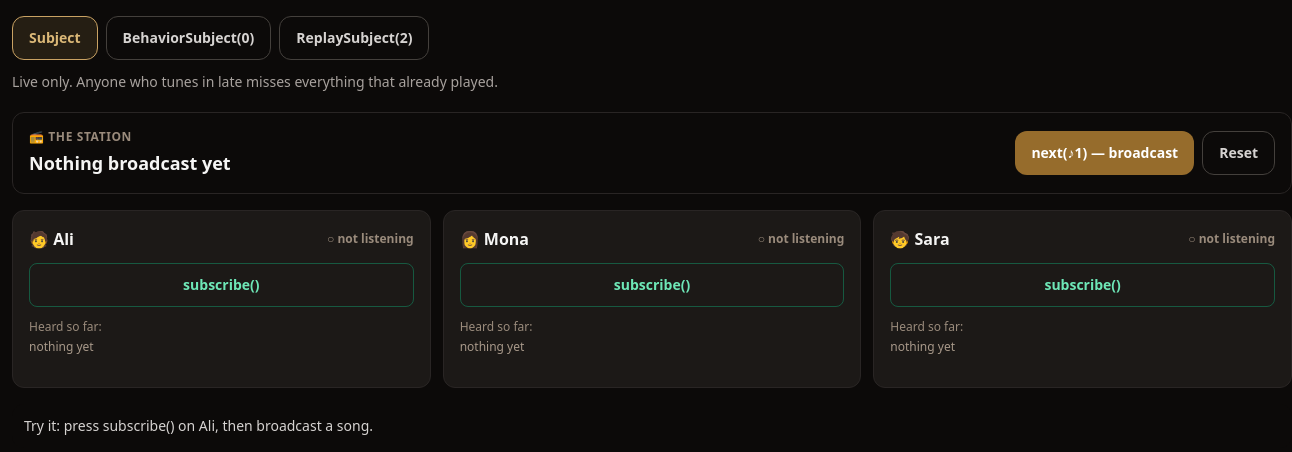
Test case: SubjectRadioDemoComponent › stops delivering after unsubscribe and clears everything on reset
The image size is (1292, 452).
Click the 1st button "subscribe()" at [221, 285], box [29, 263, 414, 307]
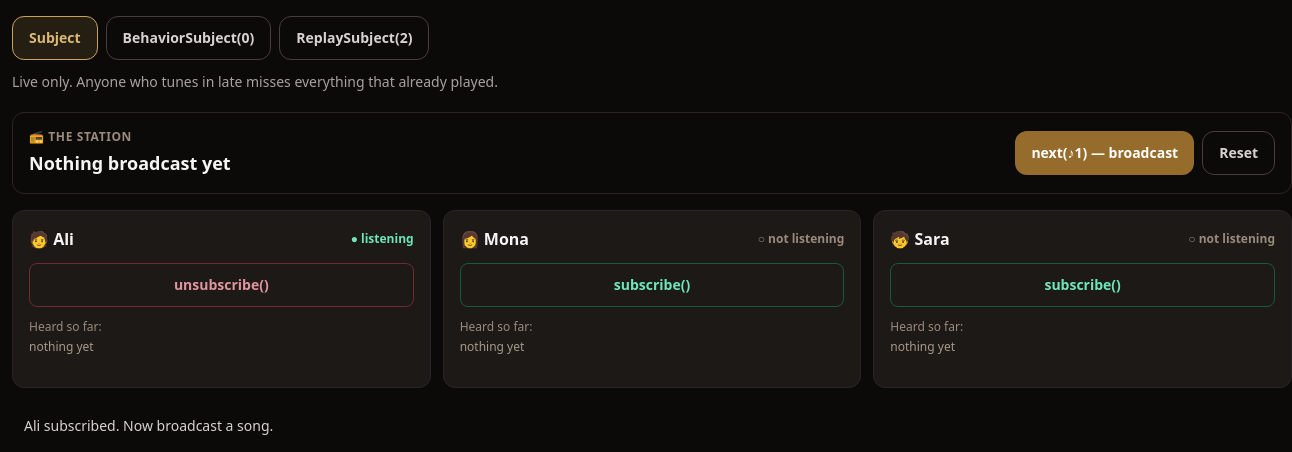
Click the button "unsubscribe()" at [221, 285], box [29, 263, 414, 307]
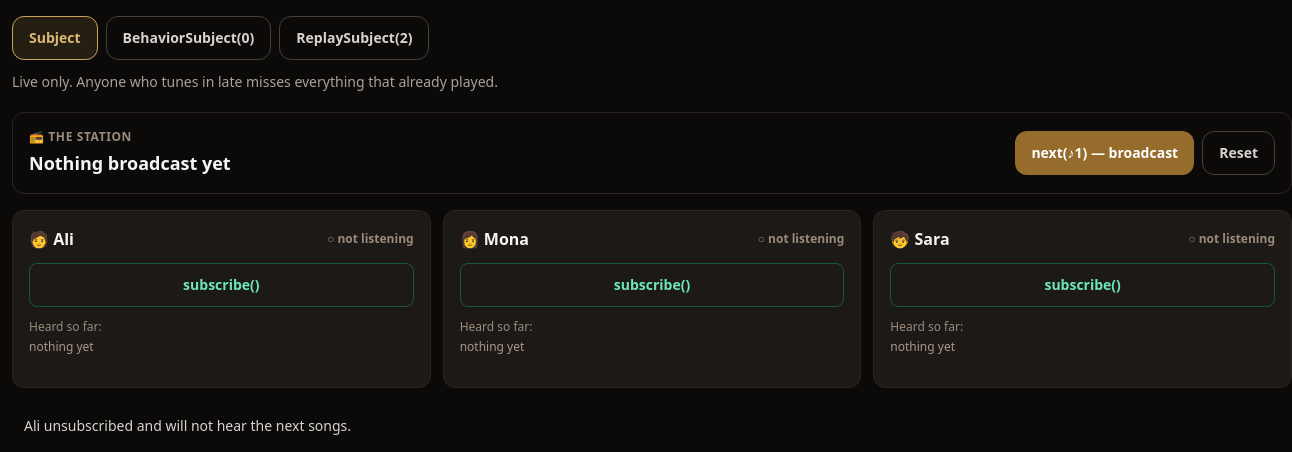
Click the button "next(♪1) — broadcast" at [1105, 153], box [1015, 131, 1194, 175]
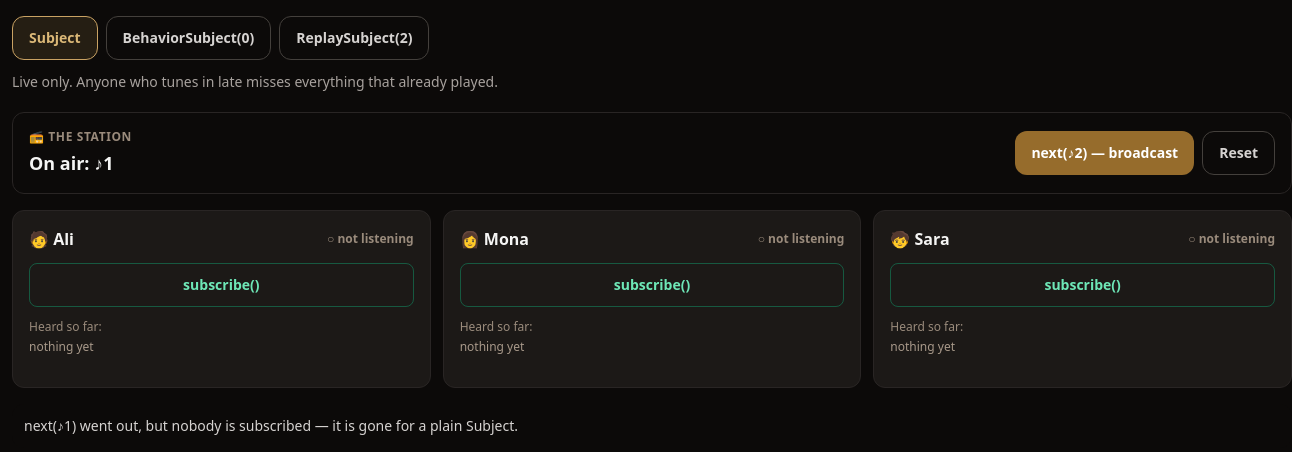
Click the button "subscribe()" below "Mona" at [652, 285], box [460, 263, 844, 307]
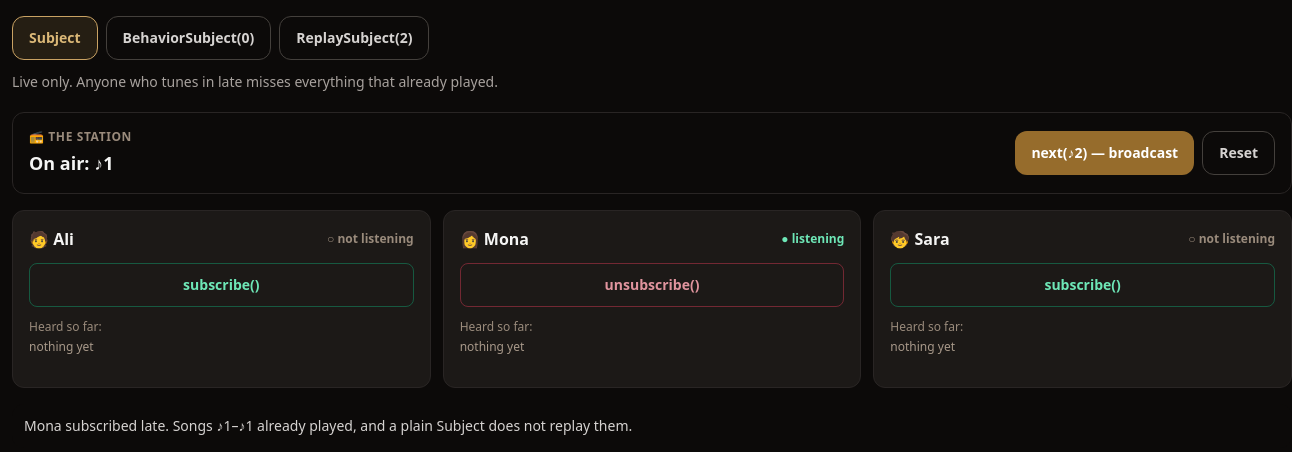
Click the button "next(♪2) — broadcast" at [1105, 153], box [1015, 131, 1194, 175]
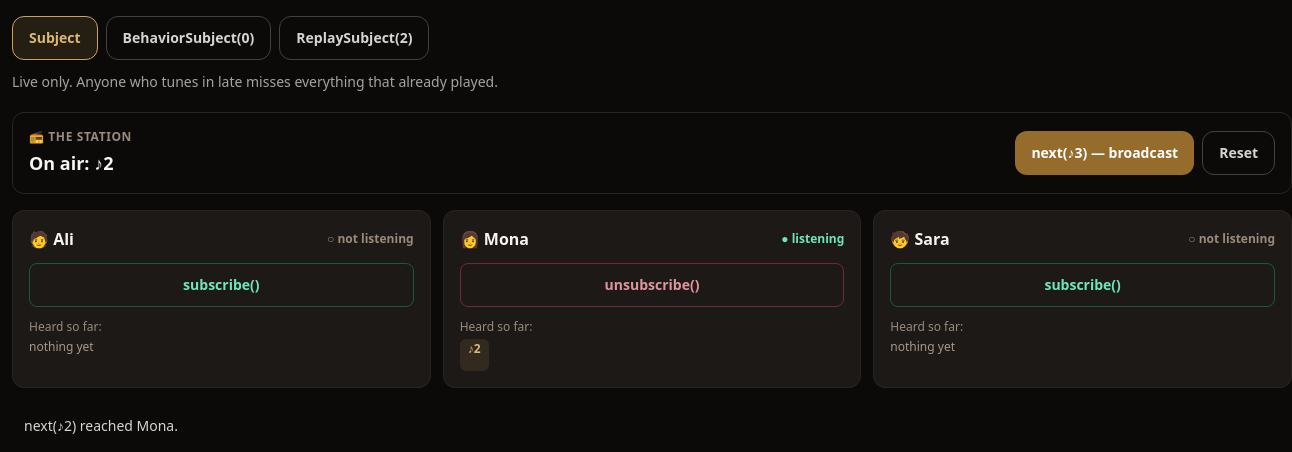
Click the button "Reset" at [1239, 153], box [1202, 131, 1275, 175]
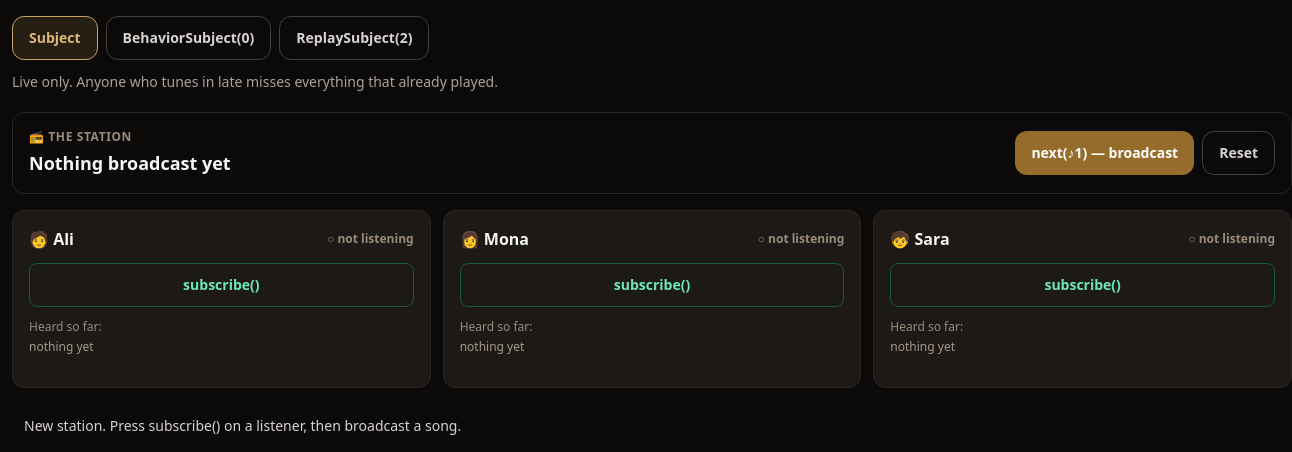
Check: the text with test id "on-air" reads "Nothing broadcast yet", box [29, 151, 231, 175]
